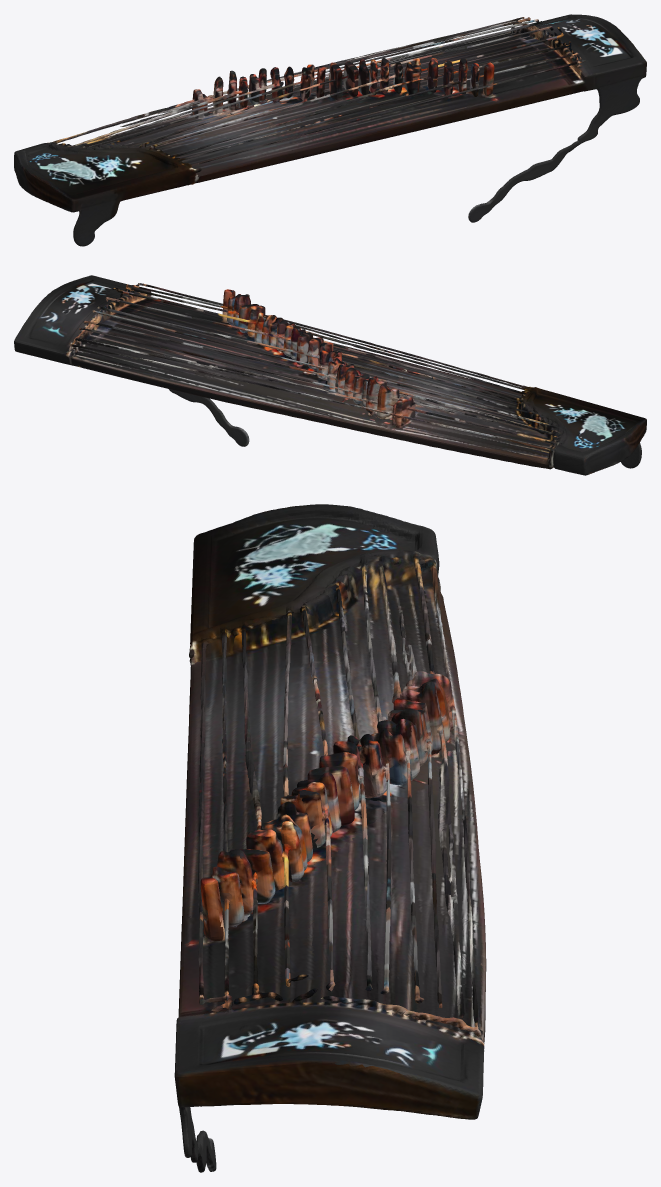
Rendered from chaozhou_zheng.glb.
3 renders of one model, top to bottom at view 1: azimuth 30°, elevation 25°; view 2: azimuth 150°, elevation 25°; view 3: azimuth 270°, elevation 25°, orthographic. The views are drawn at different scales.
Visible parts, largest first — view 1: tripo_node_db727245-ff4d-4a59-bcc1-147a0952c965; view 2: tripo_node_db727245-ff4d-4a59-bcc1-147a0952c965; view 3: tripo_node_db727245-ff4d-4a59-bcc1-147a0952c965.
Boxes of the visible parts, left/top/right/bottom form: tripo_node_db727245-ff4d-4a59-bcc1-147a0952c965: left=14, top=14, right=646, bottom=246; tripo_node_db727245-ff4d-4a59-bcc1-147a0952c965: left=14, top=275, right=646, bottom=475; tripo_node_db727245-ff4d-4a59-bcc1-147a0952c965: left=174, top=504, right=486, bottom=1172.
Bounding box in the file's own units: 100 × 26.27 × 23.32.
1 material, 1 textured.
